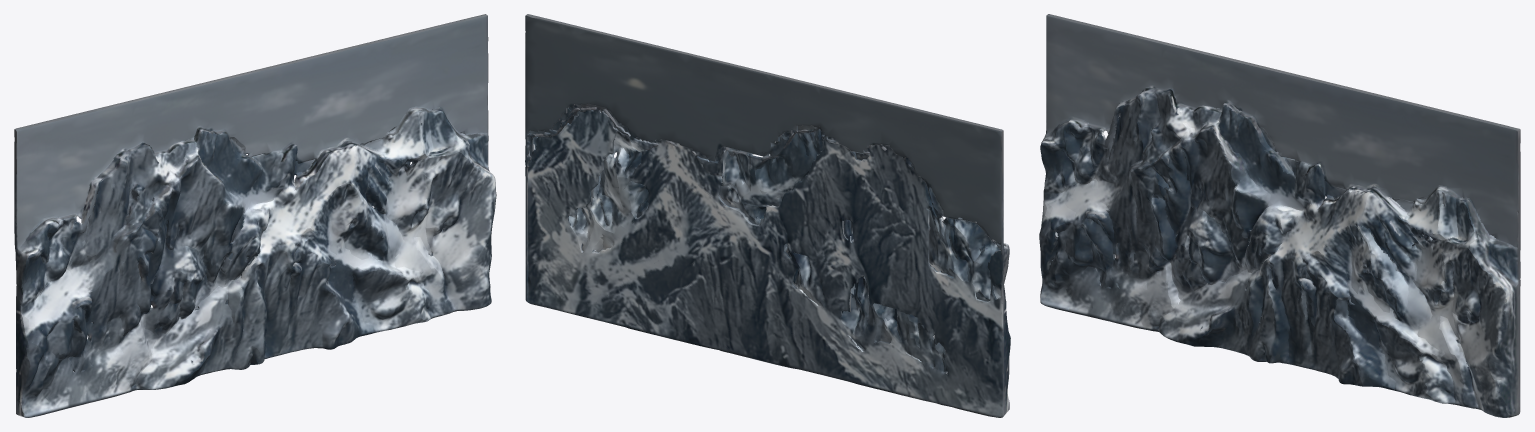
Rendered from mountain-mid_raw.glb.
3 renders of one model, left to right at view 1: azimuth 30°, elevation 25°; view 2: azimuth 150°, elevation 25°; view 3: azimuth 330°, elevation 25°, orthographic.
Visible parts, largest first — view 1: geometry_0; view 2: geometry_0; view 3: geometry_0.
Part boxes in pixels (bbox=[...]): geometry_0: bbox=[14, 14, 496, 417]; geometry_0: bbox=[525, 14, 1010, 417]; geometry_0: bbox=[1039, 14, 1520, 417].
Size of the model in its own units: 0.9 by 0.5235 by 0.0516.
Materials: 1 (1 with a texture image).
